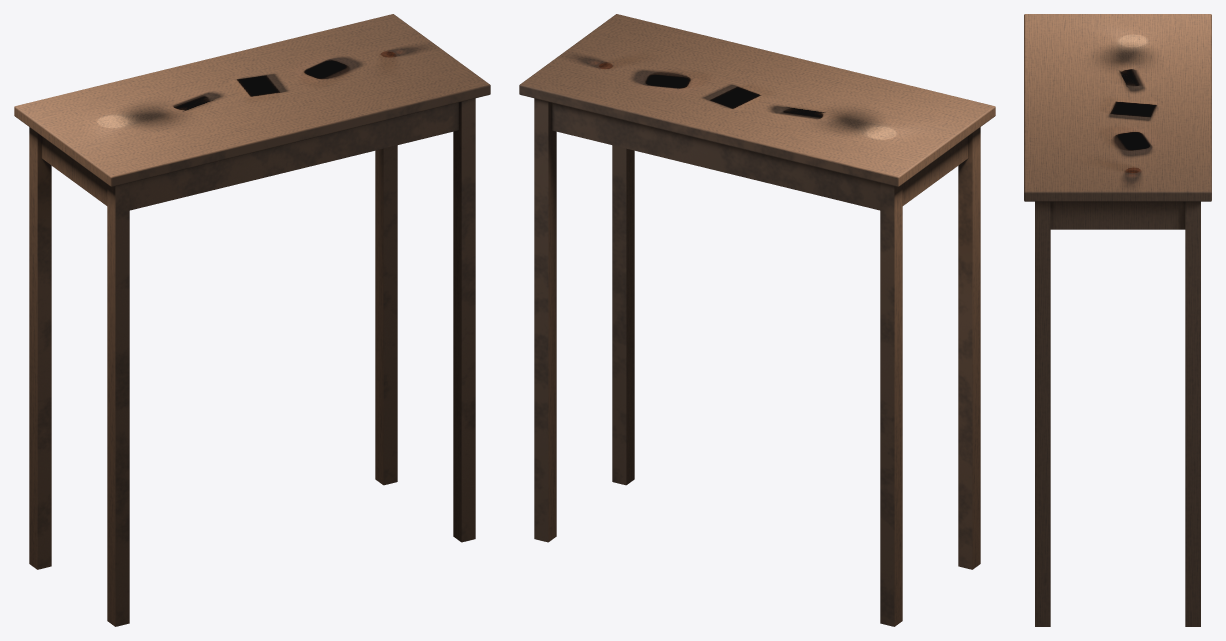
File: 812_sulf.glb
The picture shows the model from 3 angles, left to right: view 1: azimuth 30°, elevation 25°; view 2: azimuth 150°, elevation 25°; view 3: azimuth 270°, elevation 25°; orthographic projection. The views are drawn at different scales.
Visible parts, largest first — view 1: Table; view 2: Table; view 3: Table.
Part boxes in pixels (<box>): Table: <box>14,14,490,626</box>; Table: <box>519,14,995,626</box>; Table: <box>1024,14,1211,626</box>.
Size of what is drawn, in the model's own units: 2.7 by 3.1 by 1.2.
Materials: 1 (1 with a texture image).
